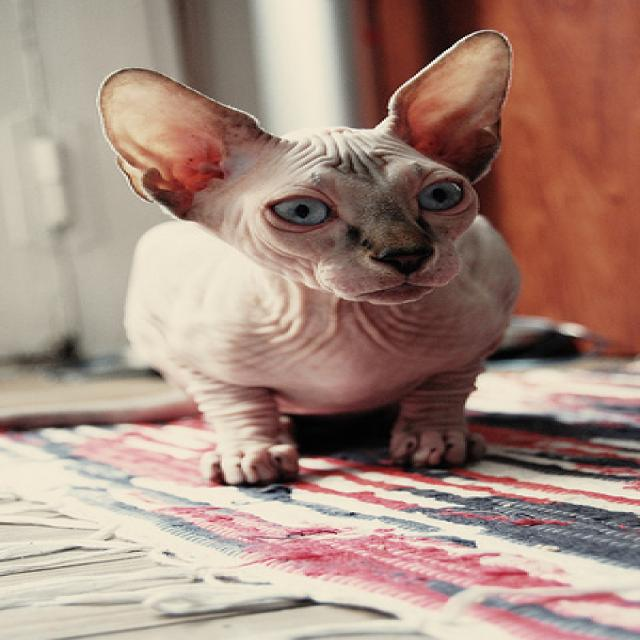Sphynx: (94, 26, 532, 490)
